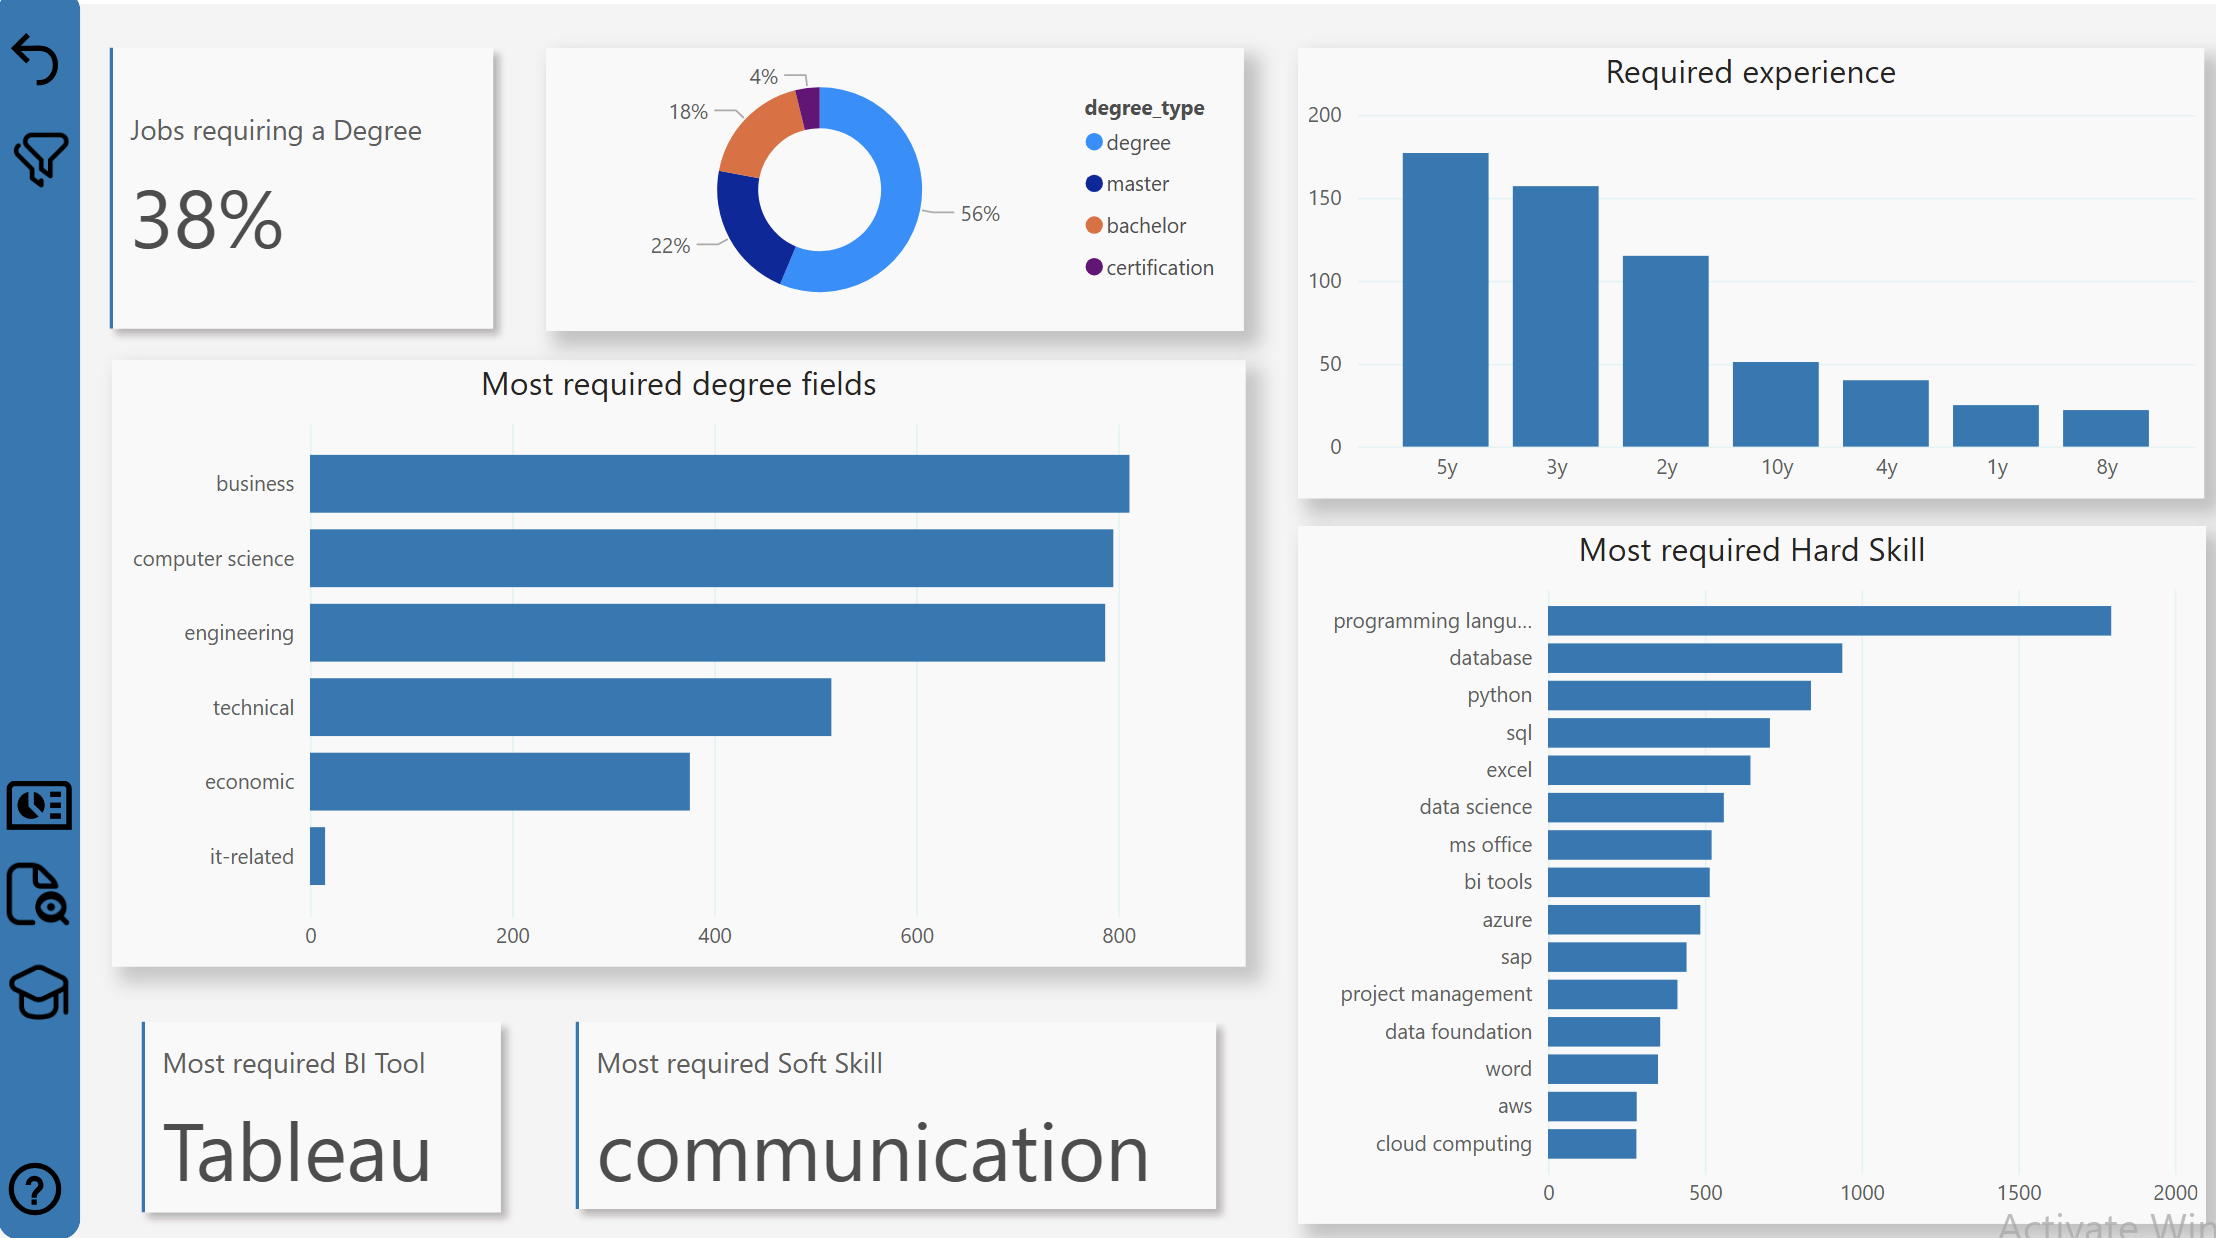

Layout of this report page (visuals, bound fields, positions):
{"tool":"powerbi","page":{"name":"requirements","canvas":[1280,720],"ordinal":1},"visuals":[{"type":"shape","title":"background","box":[0,7.9,1280,711.8],"z":0},{"type":"clusteredColumnChart","title":"Required experience","fields":{"Category":["total experience.general_experience"],"Y":["Sum(total experience.frequency)"]},"box":[749.2,33.4,521.8,259.6],"z":1000},{"type":"shape","box":[0,0,47.5,719.8],"z":2000},{"type":"clusteredBarChart","title":"Most required Hard Skill","fields":{"Category":["skills_language.hard"],"Y":["mesures_table.Skills Frequency"]},"box":[749.2,308.4,523.1,402.2],"z":3000},{"type":"cardVisual","fields":{"Data":["mesures_table.top soft"]},"box":[315.6,577.2,403.2,142.8],"z":4000},{"type":"cardVisual","fields":{"Data":["mesures_table.% degree required"]},"box":[47.2,16.1,255.7,197],"z":5000},{"type":"clusteredBarChart","title":"Most required degree fields","fields":{"Category":["total degree field.degree_field"],"Y":["Sum(total degree field.frequency)"]},"box":[65.5,213.3,652.9,349.6],"z":6000},{"type":"donutChart","fields":{"Category":["total degree type.degree_type"],"Y":["Sum(total degree type.frequency)"]},"box":[316.1,33.4,402.2,163.2],"z":7000},{"type":"cardVisual","fields":{"Data":["mesures_table.top bi tool"]},"box":[65.7,577.2,241.9,144],"z":8000},{"type":"image","box":[1.2,77.2,47.2,41.5],"z":9000},{"type":"image","box":[0,555.3,47.2,43.8],"z":10000},{"type":"image","box":[0,497.7,46.1,46.1],"z":11000},{"type":"actionButton","box":[1.2,19.6,44.9,40.3],"z":12000},{"type":"actionButton","box":[1.2,670.5,44.9,40.3],"z":13000},{"type":"image","box":[0,445.6,47.5,47.5],"z":18000}]}

Visuals, with their boxes on the page's 1280x720 design canvas (x1, y1, x2, y2). These are canvas units, not pixel positions in the 2216x1238 screenshot, which may show the page scaled, cropped or inside an application window:
"background" shape: (left=0, top=8, right=1280, bottom=720)
"Required experience" clusteredColumnChart: (left=749, top=33, right=1271, bottom=293)
shape: (left=0, top=0, right=48, bottom=720)
"Most required Hard Skill" clusteredBarChart: (left=749, top=308, right=1272, bottom=711)
cardVisual - mesures_table.top soft: (left=316, top=577, right=719, bottom=720)
cardVisual - mesures_table.% degree required: (left=47, top=16, right=303, bottom=213)
"Most required degree fields" clusteredBarChart: (left=66, top=213, right=718, bottom=563)
donutChart - total degree type.degree_type x Sum(total degree type.frequency): (left=316, top=33, right=718, bottom=197)
cardVisual - mesures_table.top bi tool: (left=66, top=577, right=308, bottom=721)
image: (left=1, top=77, right=48, bottom=119)
image: (left=0, top=555, right=47, bottom=599)
image: (left=0, top=498, right=46, bottom=544)
actionButton: (left=1, top=20, right=46, bottom=60)
actionButton: (left=1, top=670, right=46, bottom=711)
image: (left=0, top=446, right=48, bottom=493)
